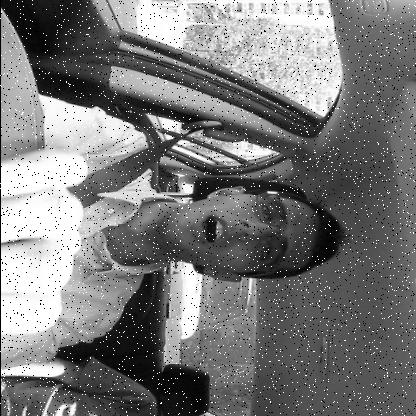seatbelt: (66, 115, 346, 295)
